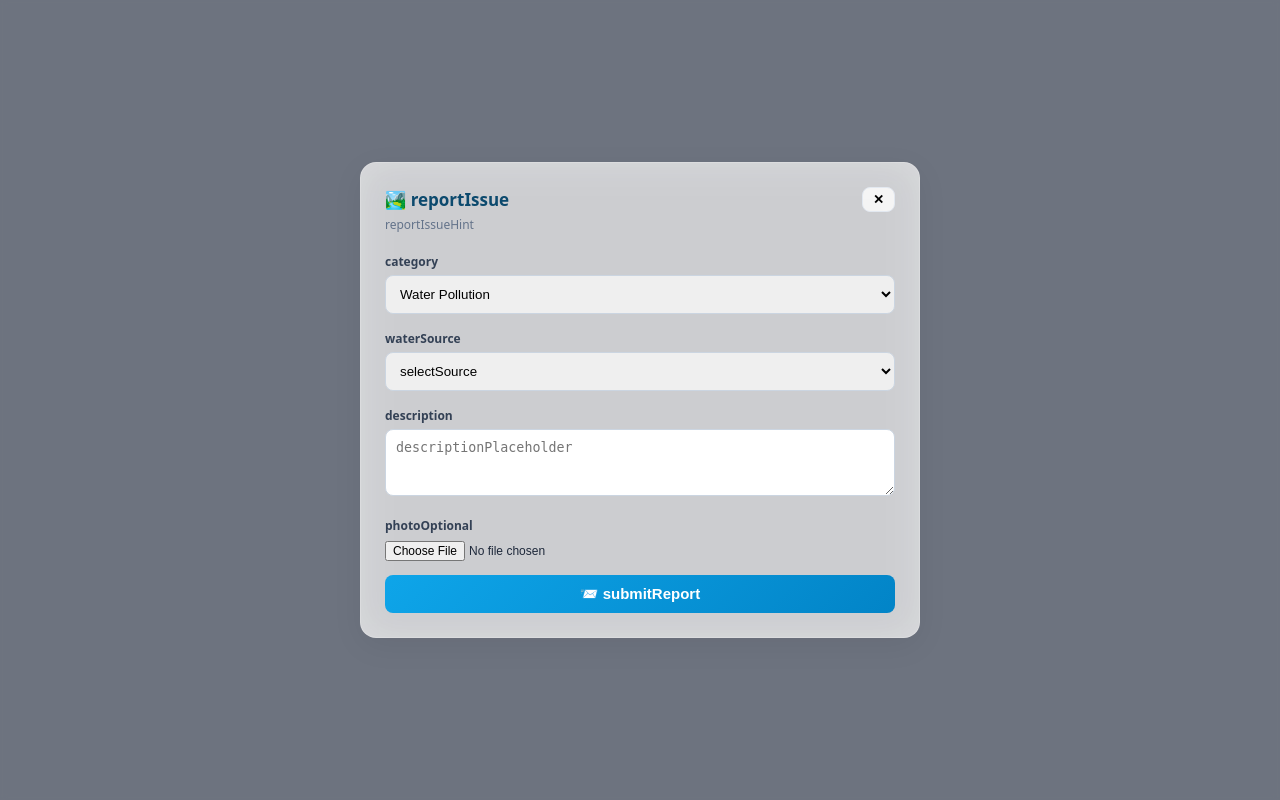
Test: blocks submission when the description is empty
Click the button "📨 submitReport" at (640, 594), box [385,575,895,613]
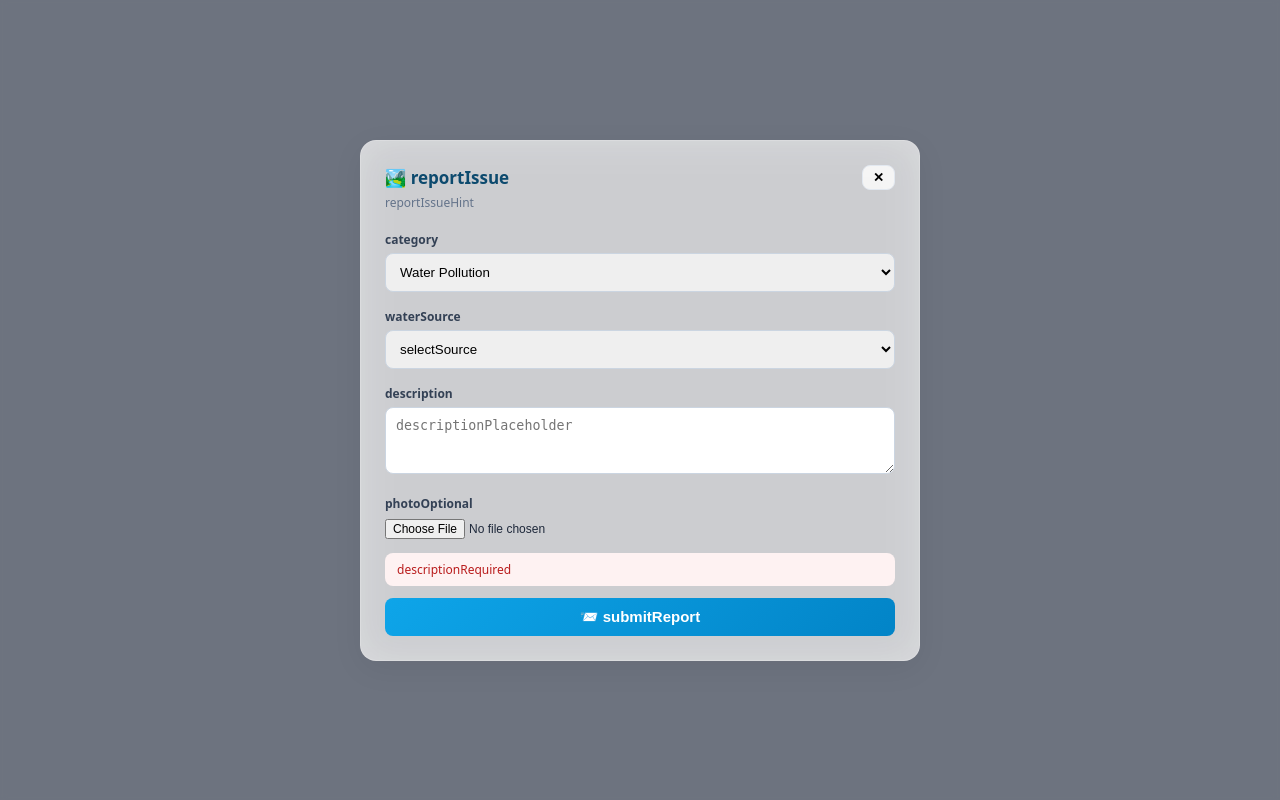
Expected: the text "descriptionRequired" is shown, [385,552,895,586]
